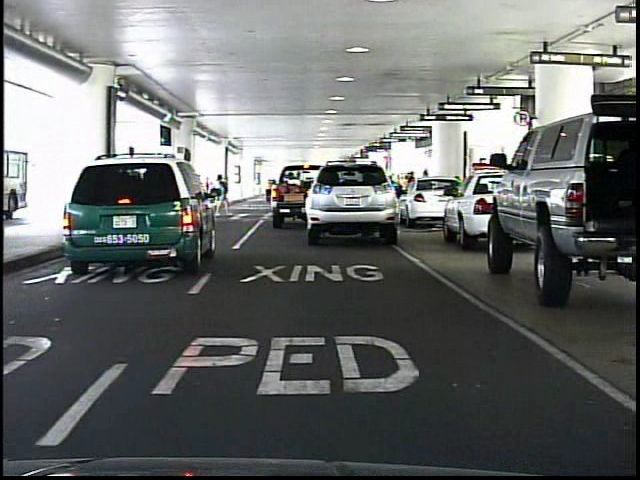person: (210, 168, 234, 220)
